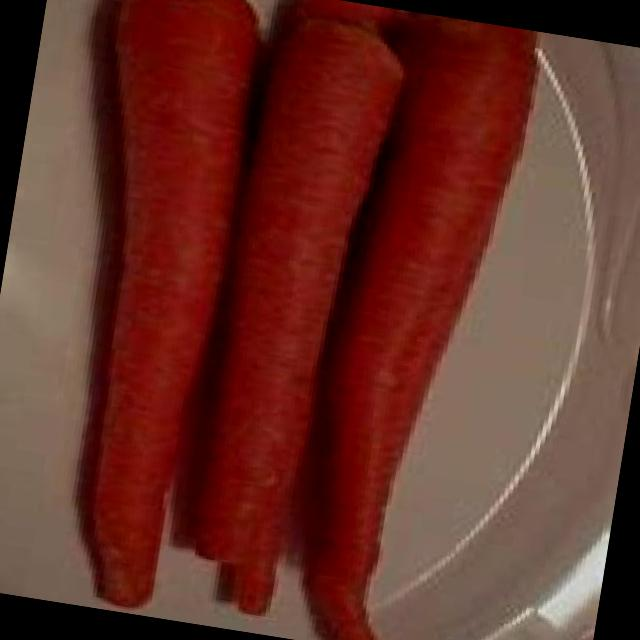carrot: (282, 8, 547, 640), (22, 0, 263, 619), (174, 11, 404, 590)
